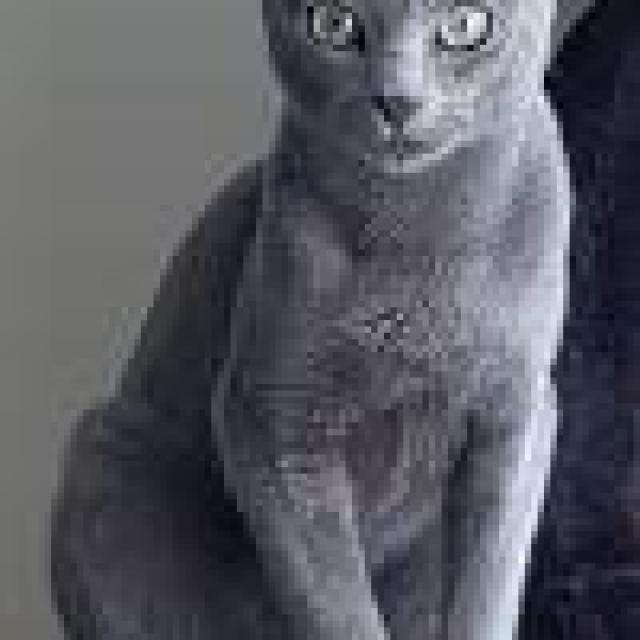Cat: (43, 0, 578, 640)
